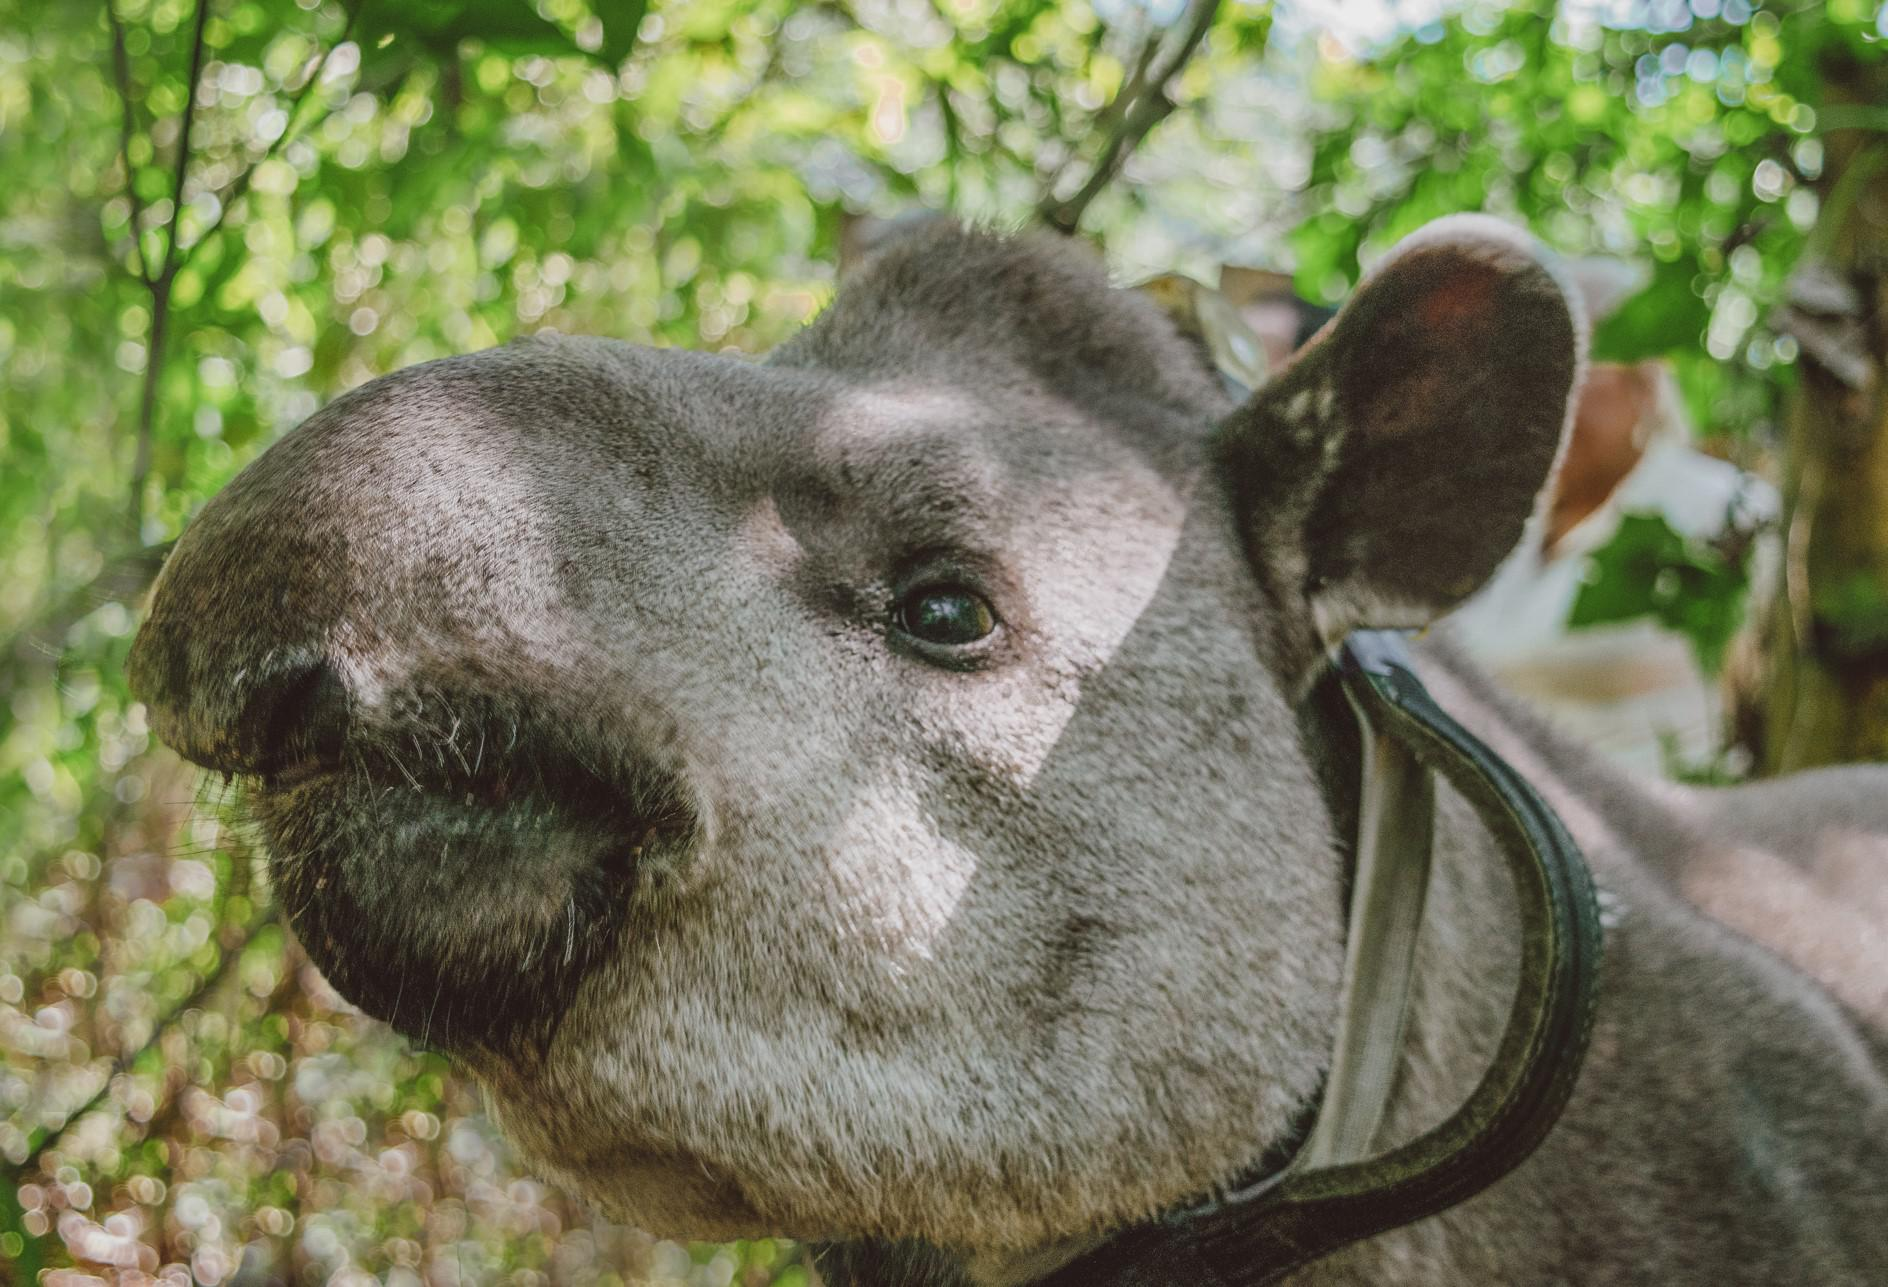Anta: (100, 175, 1856, 1251)
